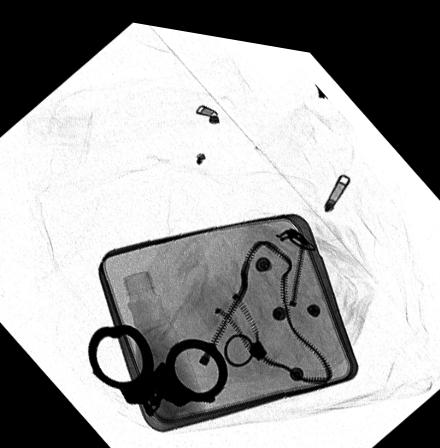HandCuffs: (87, 319, 227, 410)
